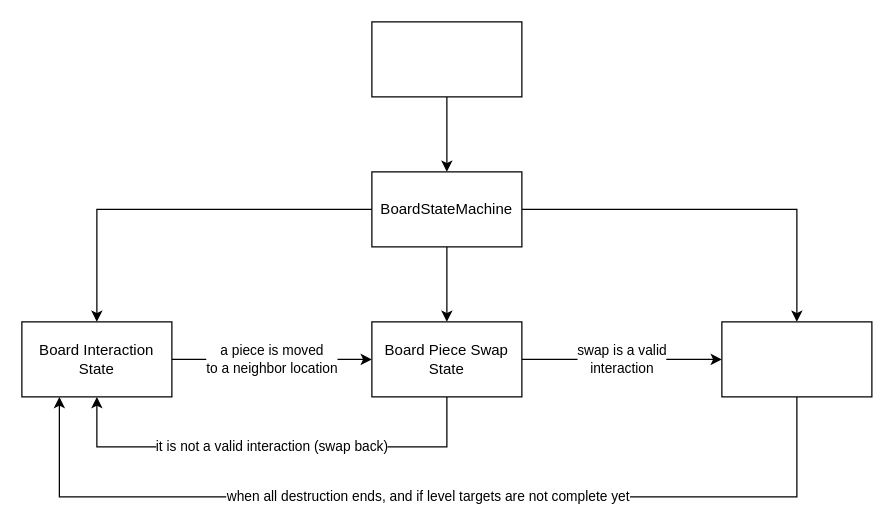
This 894x529 diagram has some shape labels left out. Here are the shapes that lost their labels. From the top down, the centre of each, then its label:
At point 446,59: "Board".
At point 796,359: "Board Destruction State".
